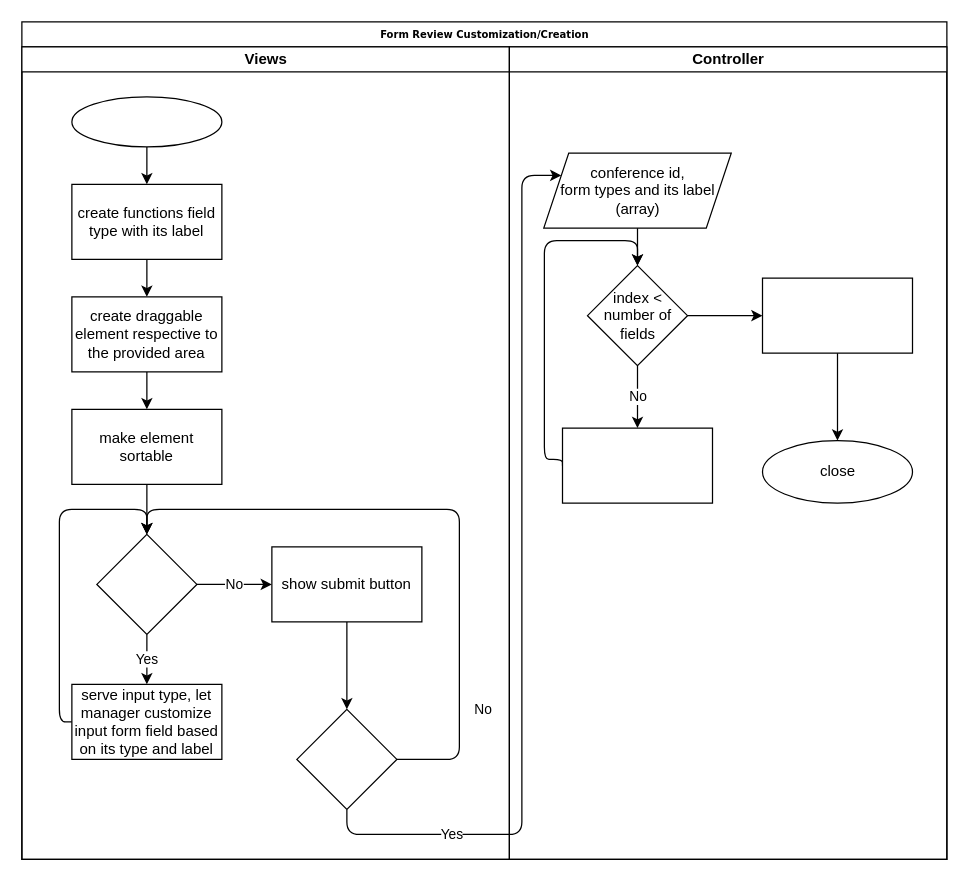
Image size: 969x881. Some labels were removed from this diagram. The shapes that lost their labels are listed below. From the top down, each one's centre as x and y in pixels, then its label:
At (146,121): "start".
At (836,315): "Insert batch form fields to database".
At (636,465): "push array data to array variable, index++".
At (146,583): "is fileds are empty?".
At (346,758): "is submitted?".
